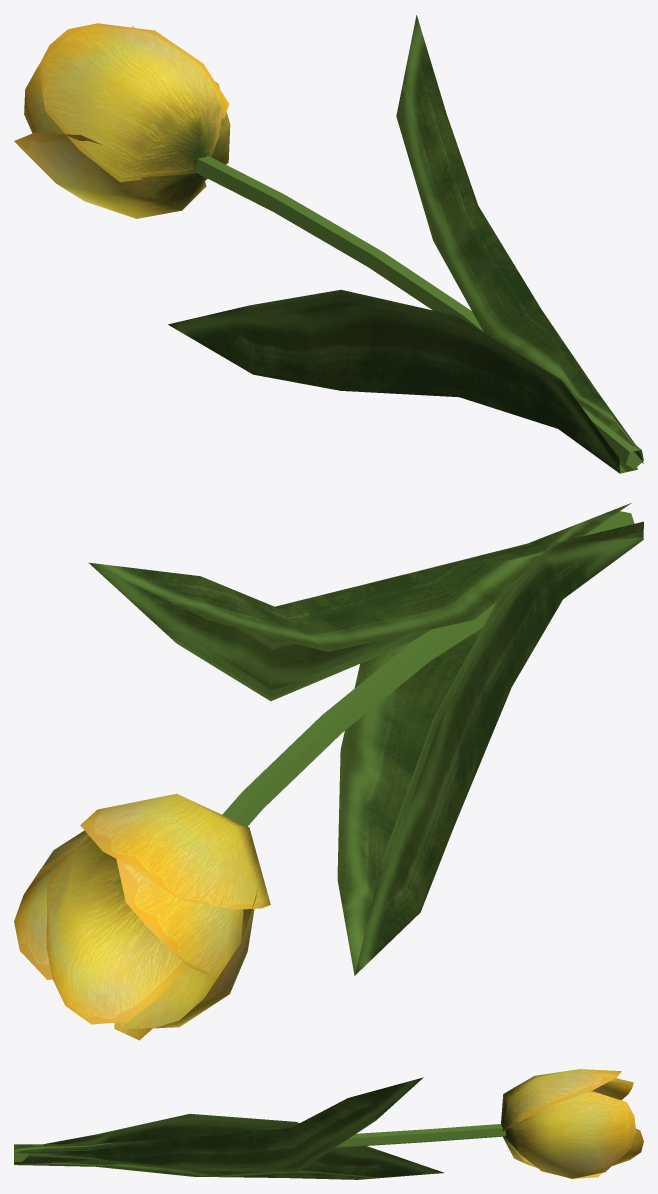
Rendered from Flower.fbx.
The picture shows the model from 3 angles, top to bottom: view 1: azimuth 30°, elevation 25°; view 2: azimuth 150°, elevation 25°; view 3: azimuth 270°, elevation 25°; orthographic projection. The views are drawn at different scales.
Parts seen in each view (by area): view 1: tulip_alutaroma_02; view 2: tulip_alutaroma_02; view 3: tulip_alutaroma_02.
Boxes of the visible parts, box(x1,y1,x2,y2) form: tulip_alutaroma_02: box(14, 15, 643, 473); tulip_alutaroma_02: box(14, 503, 643, 1040); tulip_alutaroma_02: box(14, 1069, 643, 1179).
Bounding box in the file's own units: 353 × 358 × 1210.
